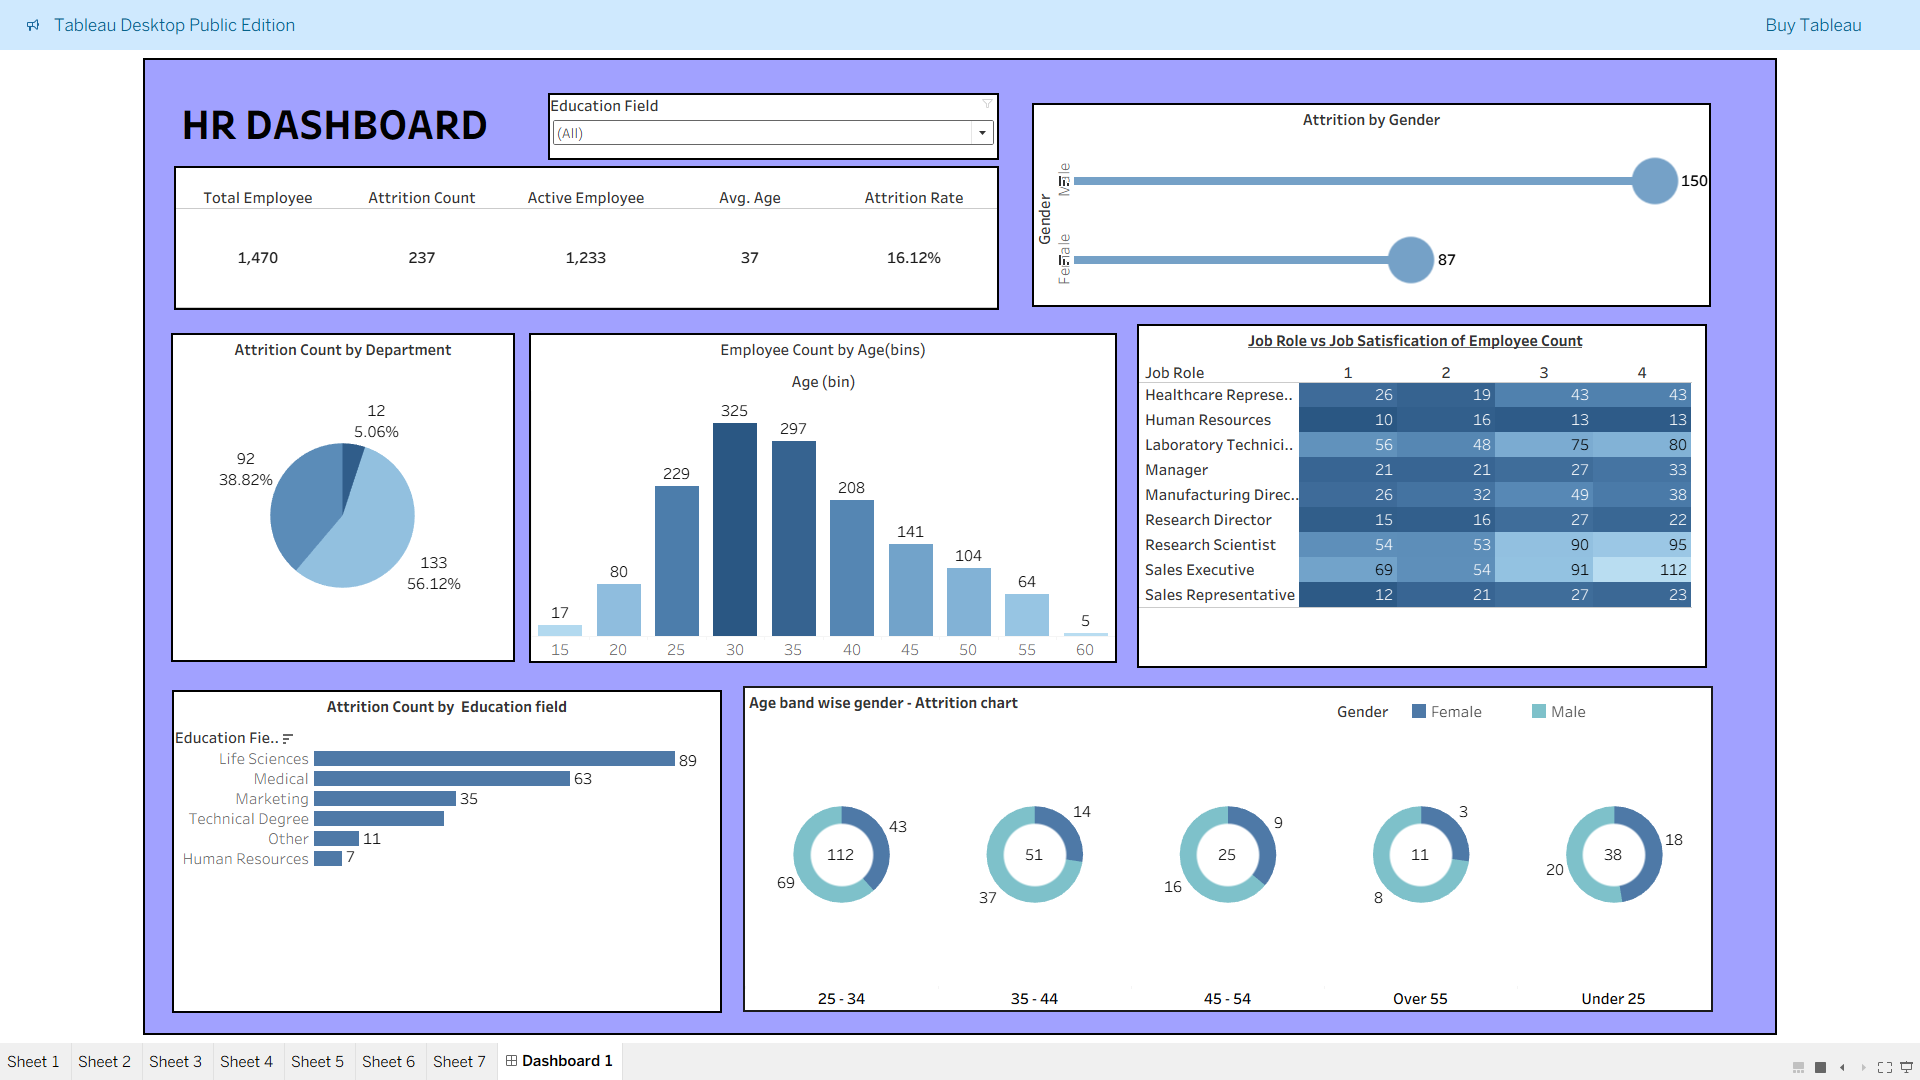

What the dashboard file says about the page in this screenshot:
{"tool":"tableau","page":{"name":"Dashboard 1","canvas":[1000,1000],"units":"permille","ordinal":0},"visuals":[{"type":"filter","title":"Sheet 2","param":"[federated.0gliksq0v3et2t1cejcpn1efz2p9].[none:Education Field:nk]","box":[250.5,43.3,273.6,67.5]},{"type":"text","box":[26.2,44.6,192,57.3]},{"type":"worksheet","title":"Sheet 4","mark":"Automatic","rows":["Gender"],"cols":["Calculation_1180506104633073664","Calculation_1180506104633073664"],"box":[543.6,53.5,411.3,205.1]},{"type":"worksheet","title":"Sheet 7","mark":"Automatic","box":[23.8,117.2,500.3,145.2]},{"type":"worksheet","title":"Sheet 5","mark":"Square","rows":["Job Role"],"cols":["Job Satisfaction"],"box":[607.6,276.4,345.5,336.3]},{"type":"worksheet","title":"Sheet 1","mark":"Pie","box":[21.9,285.4,208.4,331.2]},{"type":"worksheet","title":"Sheet 6","mark":"Automatic","rows":["Employee Count"],"cols":["Age (bin)"],"box":[238.9,285.4,356.5,332.5]},{"type":"worksheet","title":"Sheet 3","mark":"Pie","rows":["Calculation_1180506104724545538","Calculation_1180506104724545538"],"cols":["CF_age band"],"box":[368.7,624.2,588.1,345.2]},{"type":"worksheet","title":"Sheet 2","mark":"Automatic","rows":["Education Field"],"cols":["Calculation_1180506104633073664"],"box":[22.6,629.3,333.3,340.1]},{"type":"legend","title":"Sheet 3","param":"[federated.0gliksq0v3et2t1cejcpn1efz2p9].[none:Gender:nk]","box":[666.7,630.6,206,34.4]}]}

Visuals, with their boxes on the dashboard's canvas, which has no fixed pixel size, in thousandths of its width and height (x1, y1, x2, y2). These are canvas units, not pixel positions in the 1920x1080 screenshot, which may show the page scaled, cropped or inside an application window:
"Sheet 2" filter: {"left": 250, "top": 43, "right": 524, "bottom": 111}
text: {"left": 26, "top": 45, "right": 218, "bottom": 102}
"Sheet 4" worksheet: {"left": 544, "top": 54, "right": 955, "bottom": 259}
"Sheet 7" worksheet: {"left": 24, "top": 117, "right": 524, "bottom": 262}
"Sheet 5" worksheet (Square marks): {"left": 608, "top": 276, "right": 953, "bottom": 613}
"Sheet 1" worksheet (Pie marks): {"left": 22, "top": 285, "right": 230, "bottom": 617}
"Sheet 6" worksheet: {"left": 239, "top": 285, "right": 595, "bottom": 618}
"Sheet 3" worksheet (Pie marks): {"left": 369, "top": 624, "right": 957, "bottom": 969}
"Sheet 2" worksheet: {"left": 23, "top": 629, "right": 356, "bottom": 969}
"Sheet 3" legend: {"left": 667, "top": 631, "right": 873, "bottom": 665}
